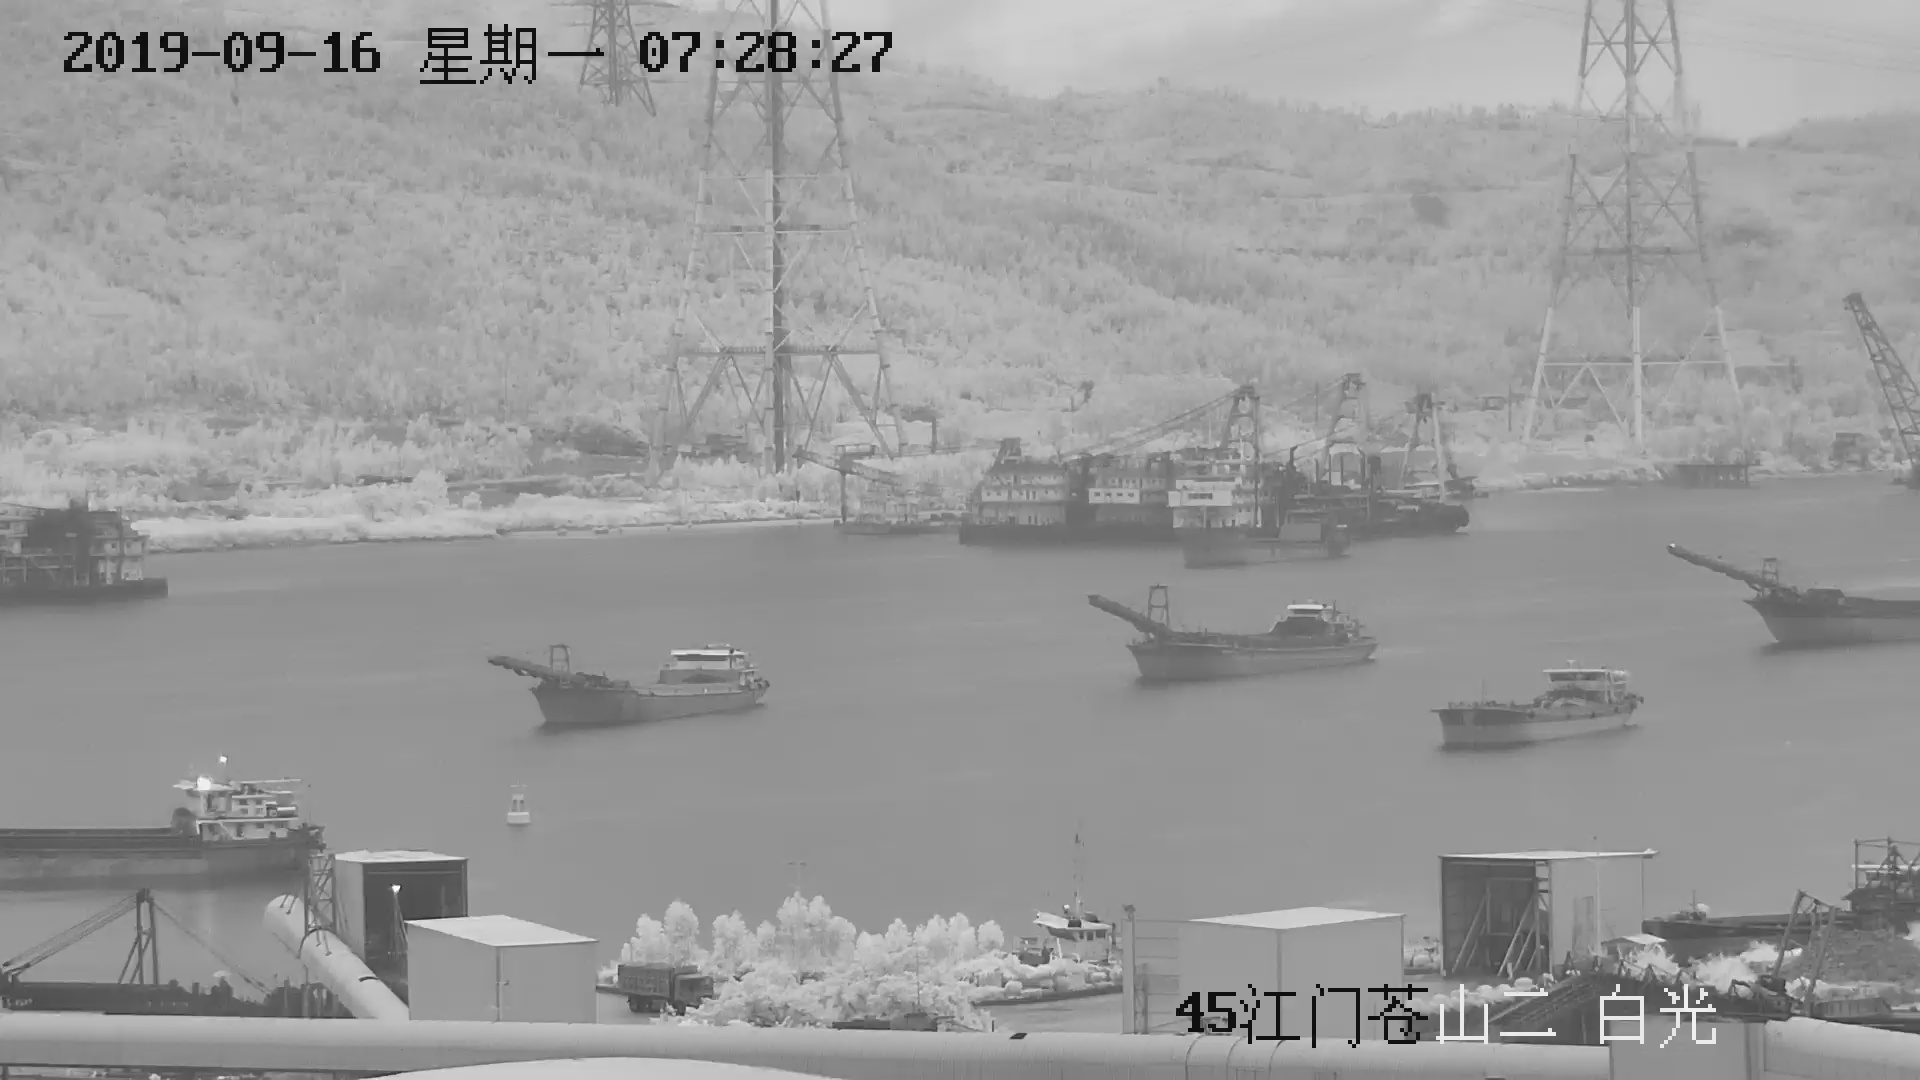ship: (1, 764, 314, 895), (1091, 578, 1385, 684), (1665, 535, 1907, 640), (501, 640, 773, 728), (1431, 663, 1644, 746), (1170, 510, 1346, 564)
